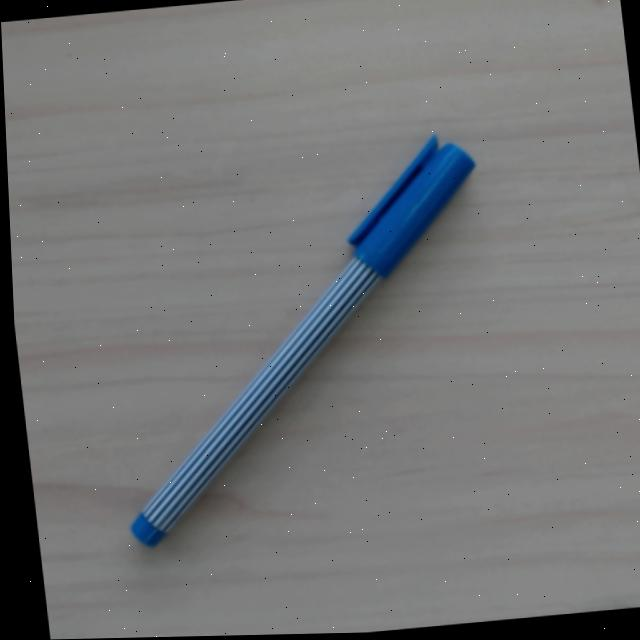Pulpen-Garis-Biru: (117, 128, 480, 558)
